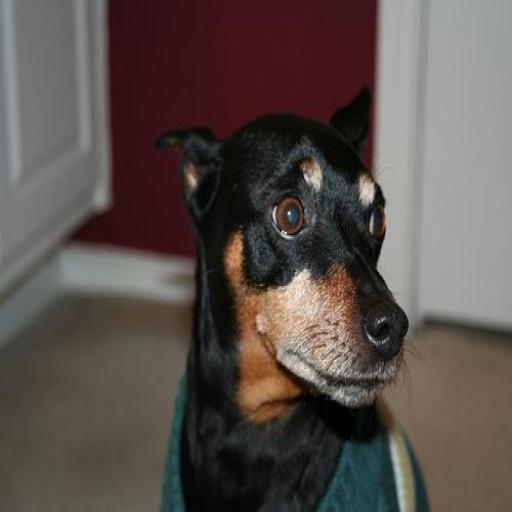dog_face: (156, 95, 410, 415)
